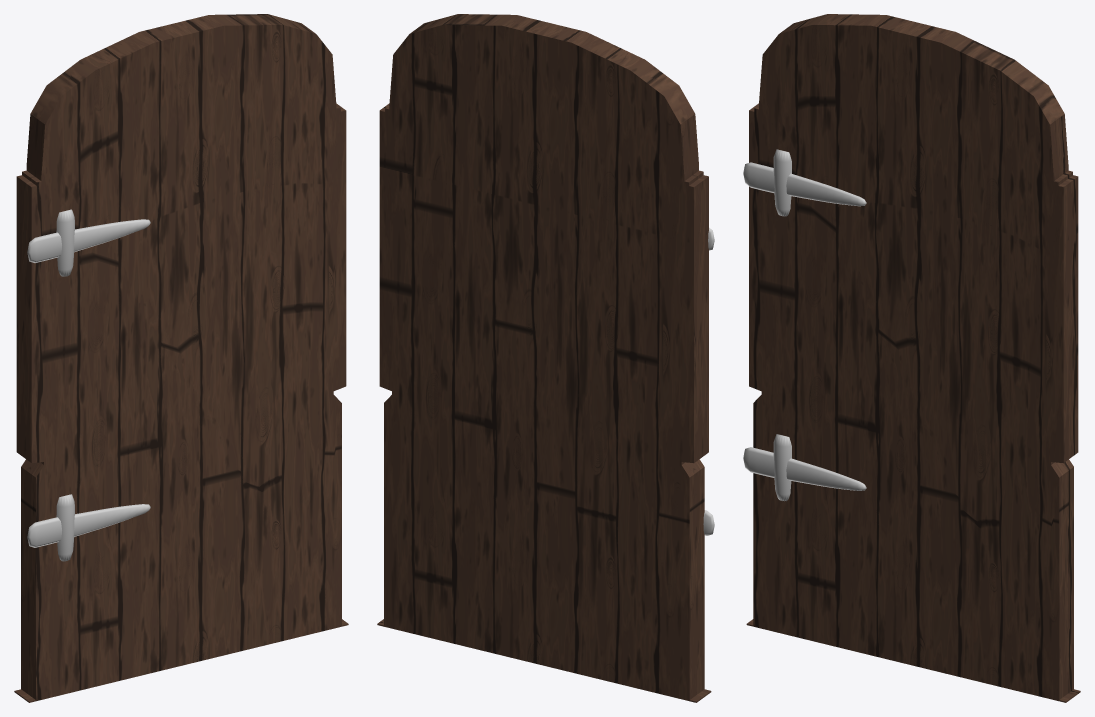
File: DungeonDoor.fbx
3 renders of one model, left to right at view 1: azimuth 30°, elevation 25°; view 2: azimuth 150°, elevation 25°; view 3: azimuth 330°, elevation 25°, orthographic.
Visible parts, largest first — view 1: Door; view 2: Door; view 3: Door.
Part boxes in pixels (x1,y1,x2,y2): Door: (14, 14, 348, 702); Door: (377, 14, 714, 702); Door: (743, 14, 1080, 702).
Size of the model in its own units: 646 by 1208 by 64.84.
